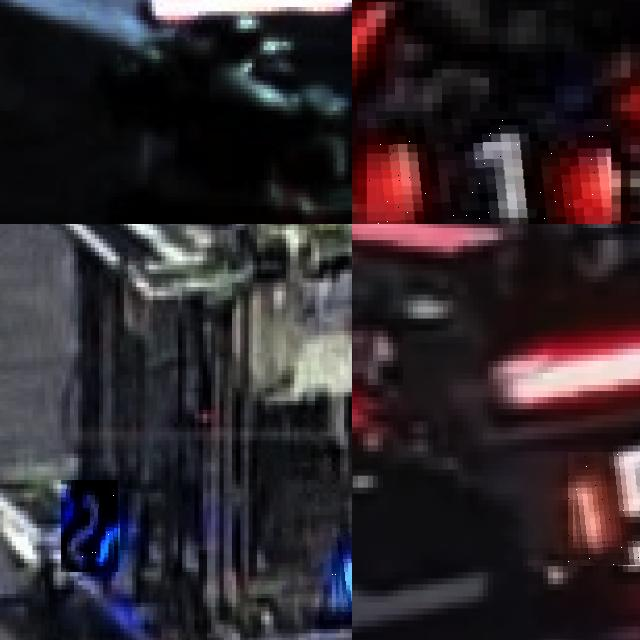B2: (62, 480, 120, 572), (331, 528, 352, 611)
R1: (366, 119, 611, 224)
R5: (568, 451, 640, 566)
